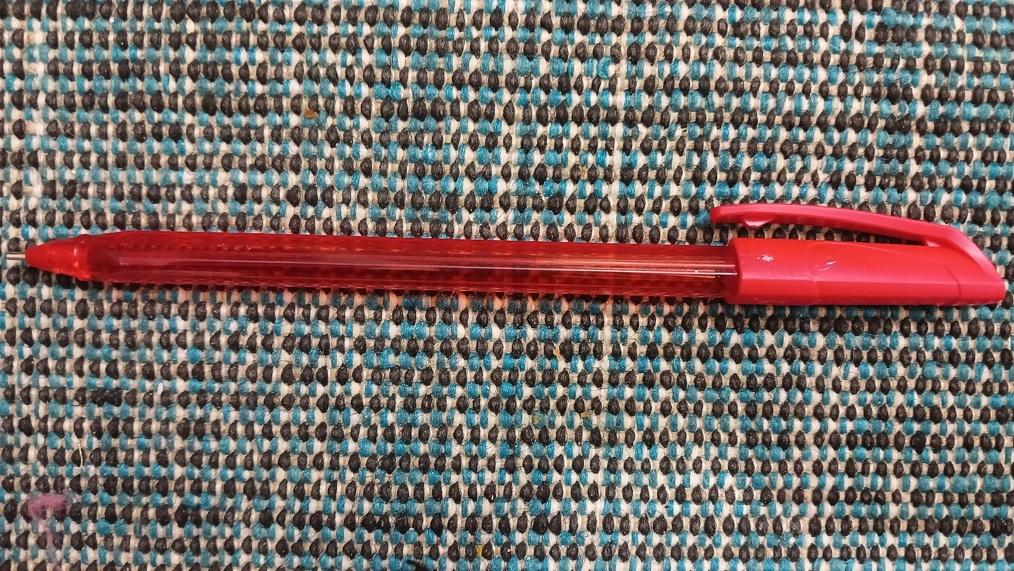pen: (5, 206, 1014, 307)
